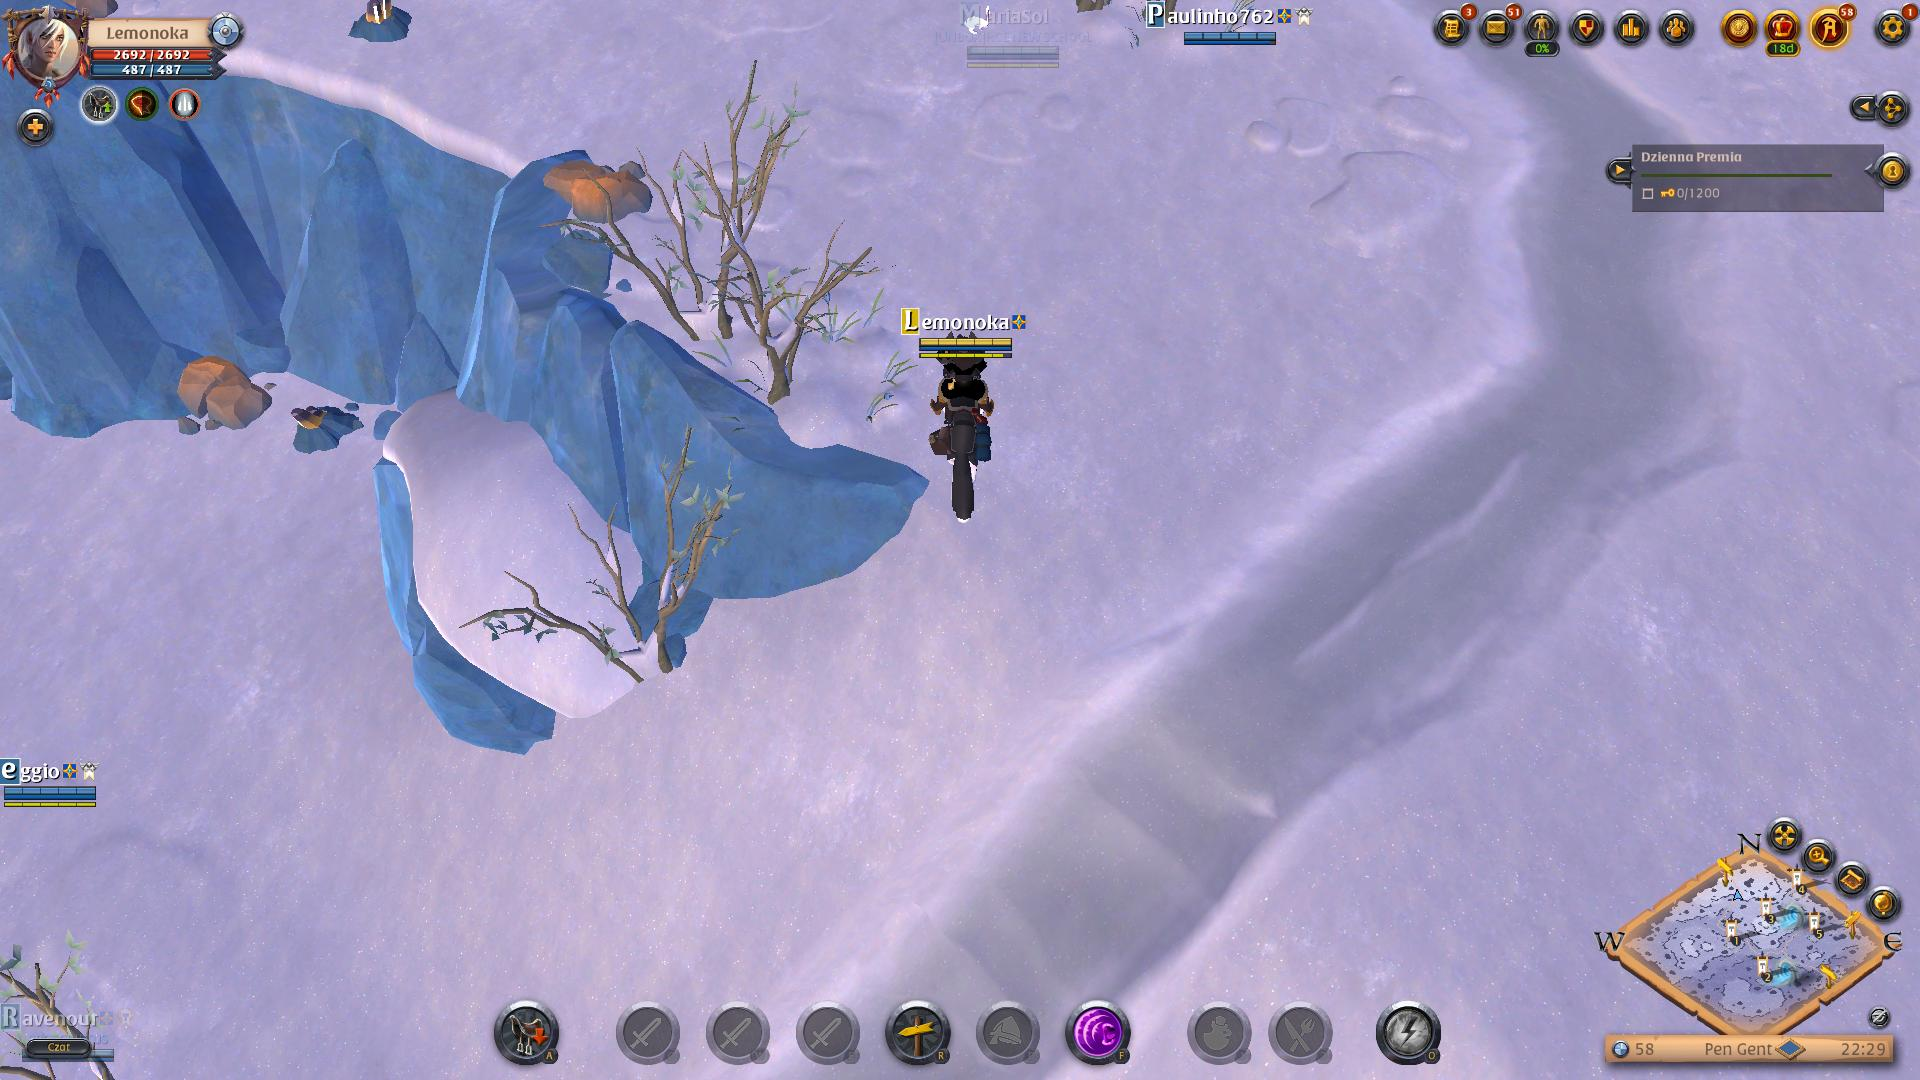ore tier 2: (286, 398, 364, 455)
rock tier 2: (165, 348, 278, 440), (545, 153, 658, 228)
